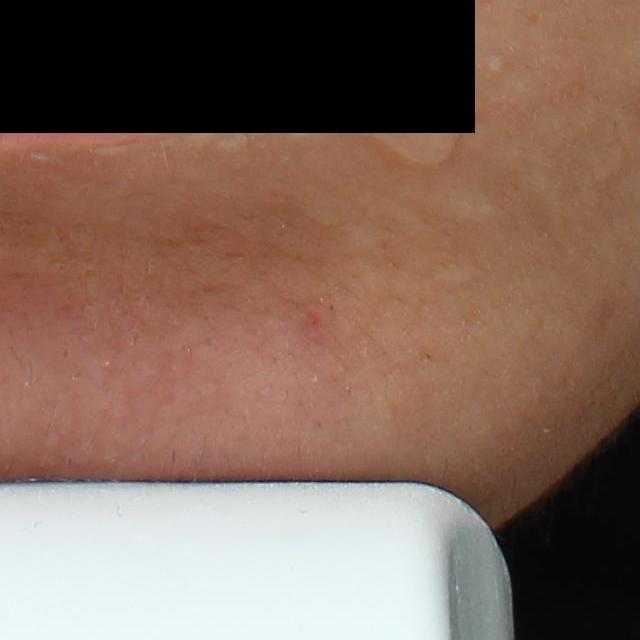comedo: (486, 51, 504, 73)
hypertrophic_scar: (432, 261, 482, 290)
